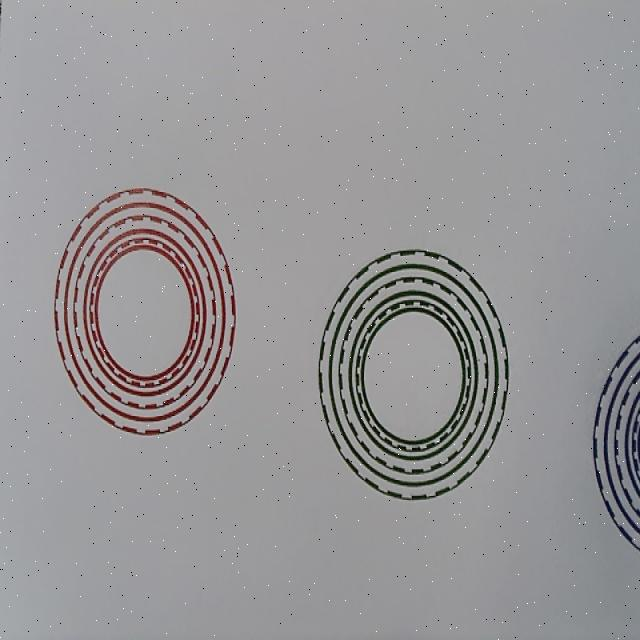g: (316, 249, 510, 503)
red-green-blue: (54, 188, 235, 436)
